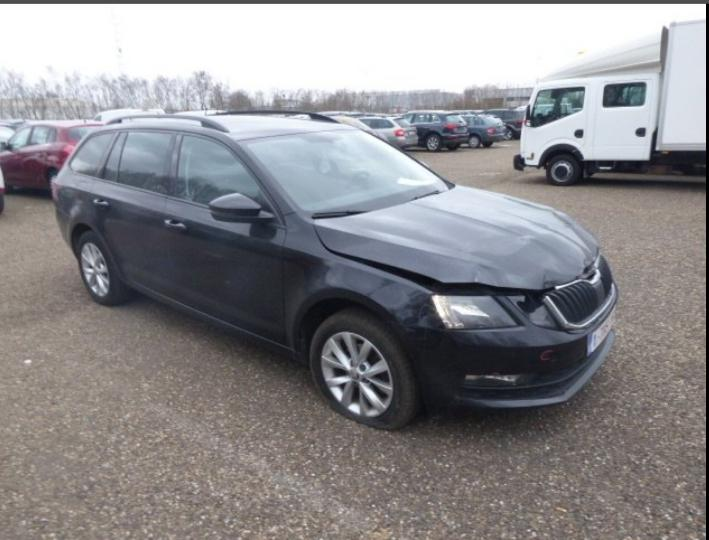Back-door: (89, 129, 177, 294)
Back-wheel: (77, 230, 128, 306)
Back-window: (104, 132, 173, 191), (71, 134, 115, 175)
Fender: (283, 210, 447, 354)
Front-bumper: (399, 284, 617, 409)
Front-door: (162, 131, 285, 345)
Front-wheel: (309, 311, 421, 431)
Front-window: (177, 136, 258, 206)
Grille: (540, 248, 616, 329)
Headlight: (431, 295, 519, 328)
Hood: (314, 185, 599, 291)
License-plate: (587, 302, 616, 356)
Mirror: (209, 193, 274, 225)
Quarter-panel: (53, 168, 110, 252)
Rocker-panel: (120, 274, 306, 365)
Roof: (99, 113, 358, 141)
Windshield: (237, 130, 451, 216)
